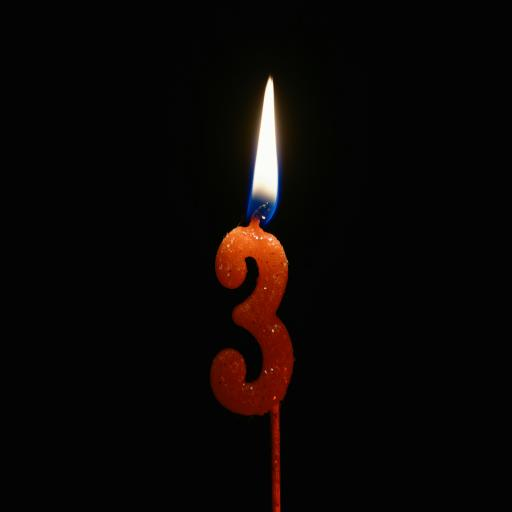candlelight: (220, 64, 312, 446)
